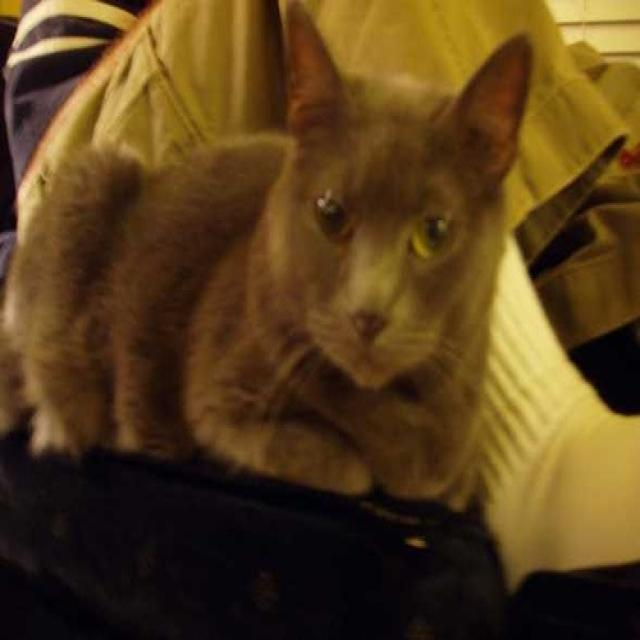cat: (4, 0, 535, 498)
